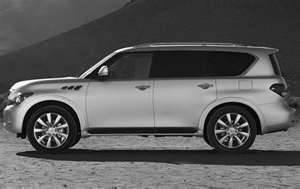car: (3, 40, 297, 157)
